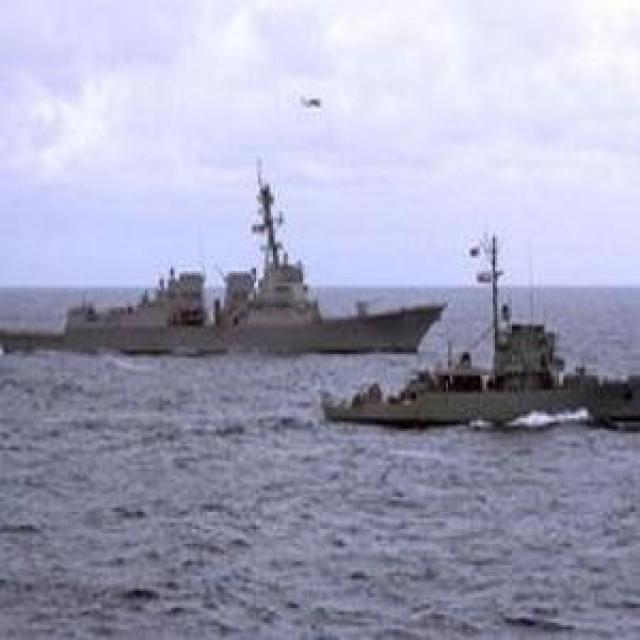navalvessels: (0, 156, 446, 352), (322, 264, 640, 426)
